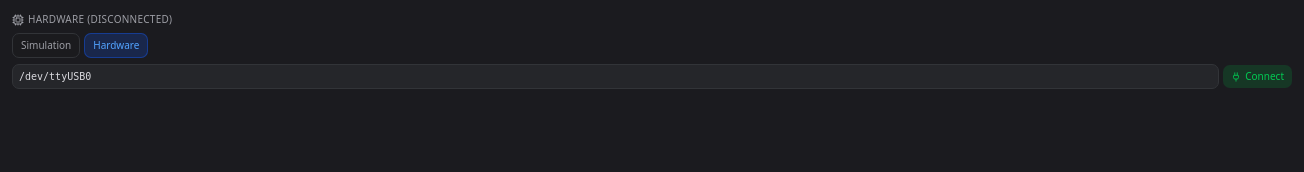
BackendSelector — available backends + active highlight (spec) › switching back to Simulation hides the port input
Click the button "Simulation".
click(46, 46)  # box [12,33,80,58]
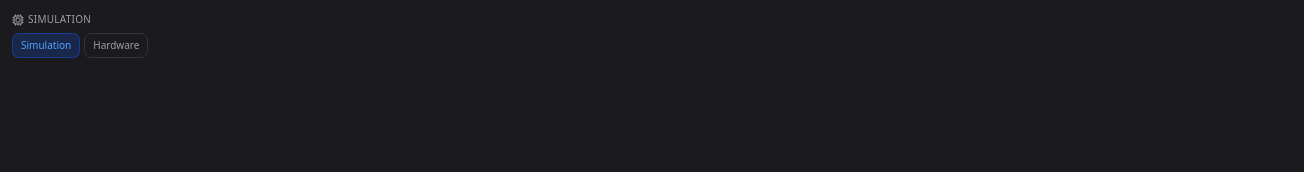
Expected: the field labelled "Port" is gone
